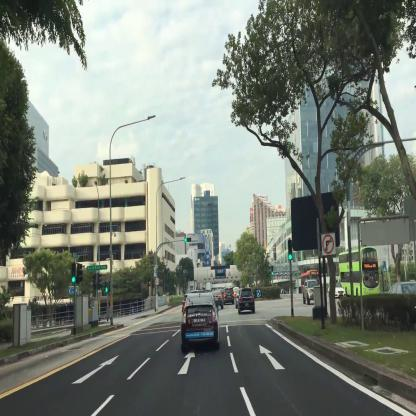green_traffic_light: (72, 263, 76, 282), (288, 240, 292, 259), (184, 237, 191, 240), (272, 265, 272, 275)
